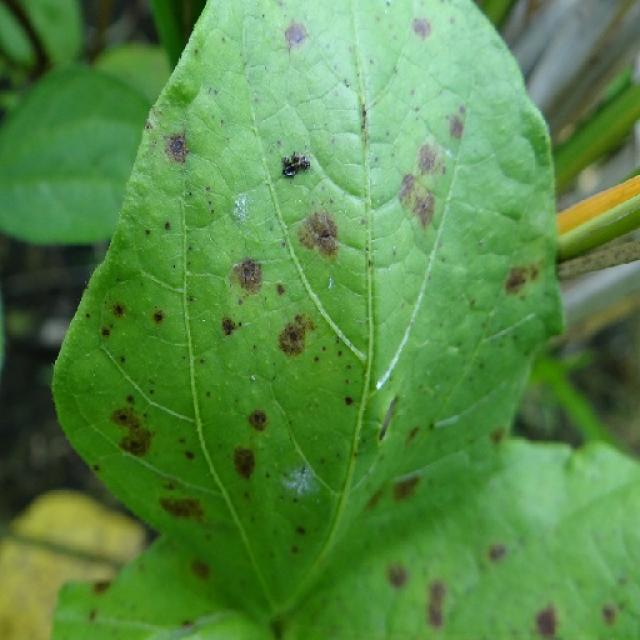Anthracnose: (229, 403, 276, 495), (284, 211, 346, 262), (110, 404, 156, 458), (397, 171, 436, 230), (295, 208, 339, 260), (277, 314, 315, 358), (231, 257, 264, 294), (425, 579, 448, 628), (159, 496, 204, 520), (503, 264, 537, 295), (416, 141, 442, 175), (232, 446, 257, 480), (163, 132, 189, 163), (534, 602, 558, 635), (281, 152, 311, 178), (393, 474, 420, 501), (283, 20, 309, 48), (397, 174, 416, 205), (220, 316, 243, 338), (411, 17, 432, 40), (387, 565, 408, 588), (448, 113, 465, 141), (247, 409, 268, 431), (190, 559, 210, 580), (488, 543, 507, 561), (112, 408, 132, 425), (491, 426, 506, 445), (602, 606, 616, 626), (152, 309, 165, 324), (112, 303, 125, 317), (276, 284, 286, 296), (344, 396, 354, 406), (101, 327, 110, 337)
Blackgram: (55, 0, 561, 616)
